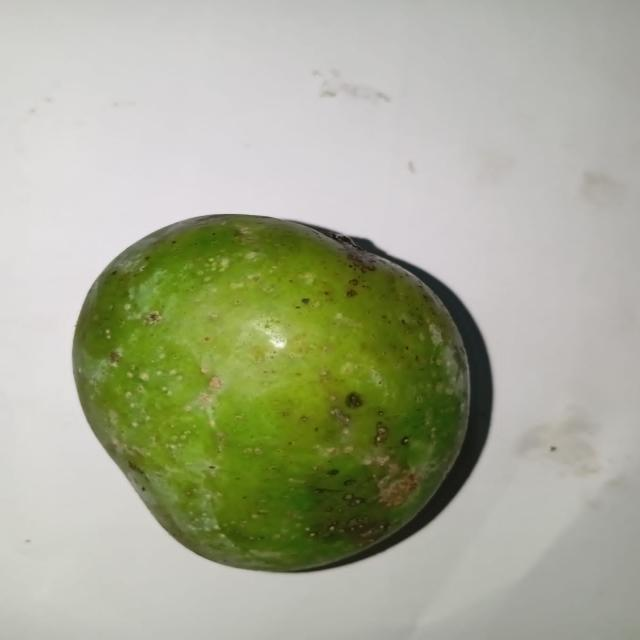rotten_mango: (72, 213, 469, 572)
